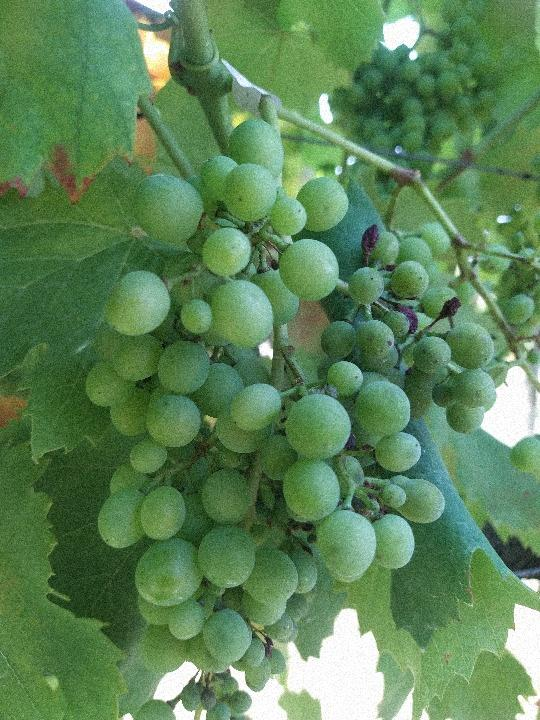grape: (83, 118, 504, 680)
